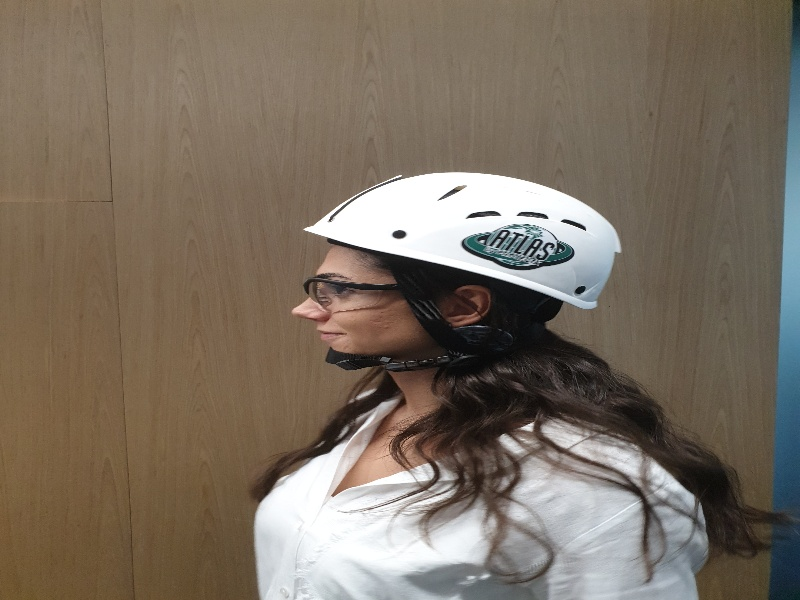Baret: (305, 172, 625, 292)
Gozluk: (301, 274, 408, 306)
